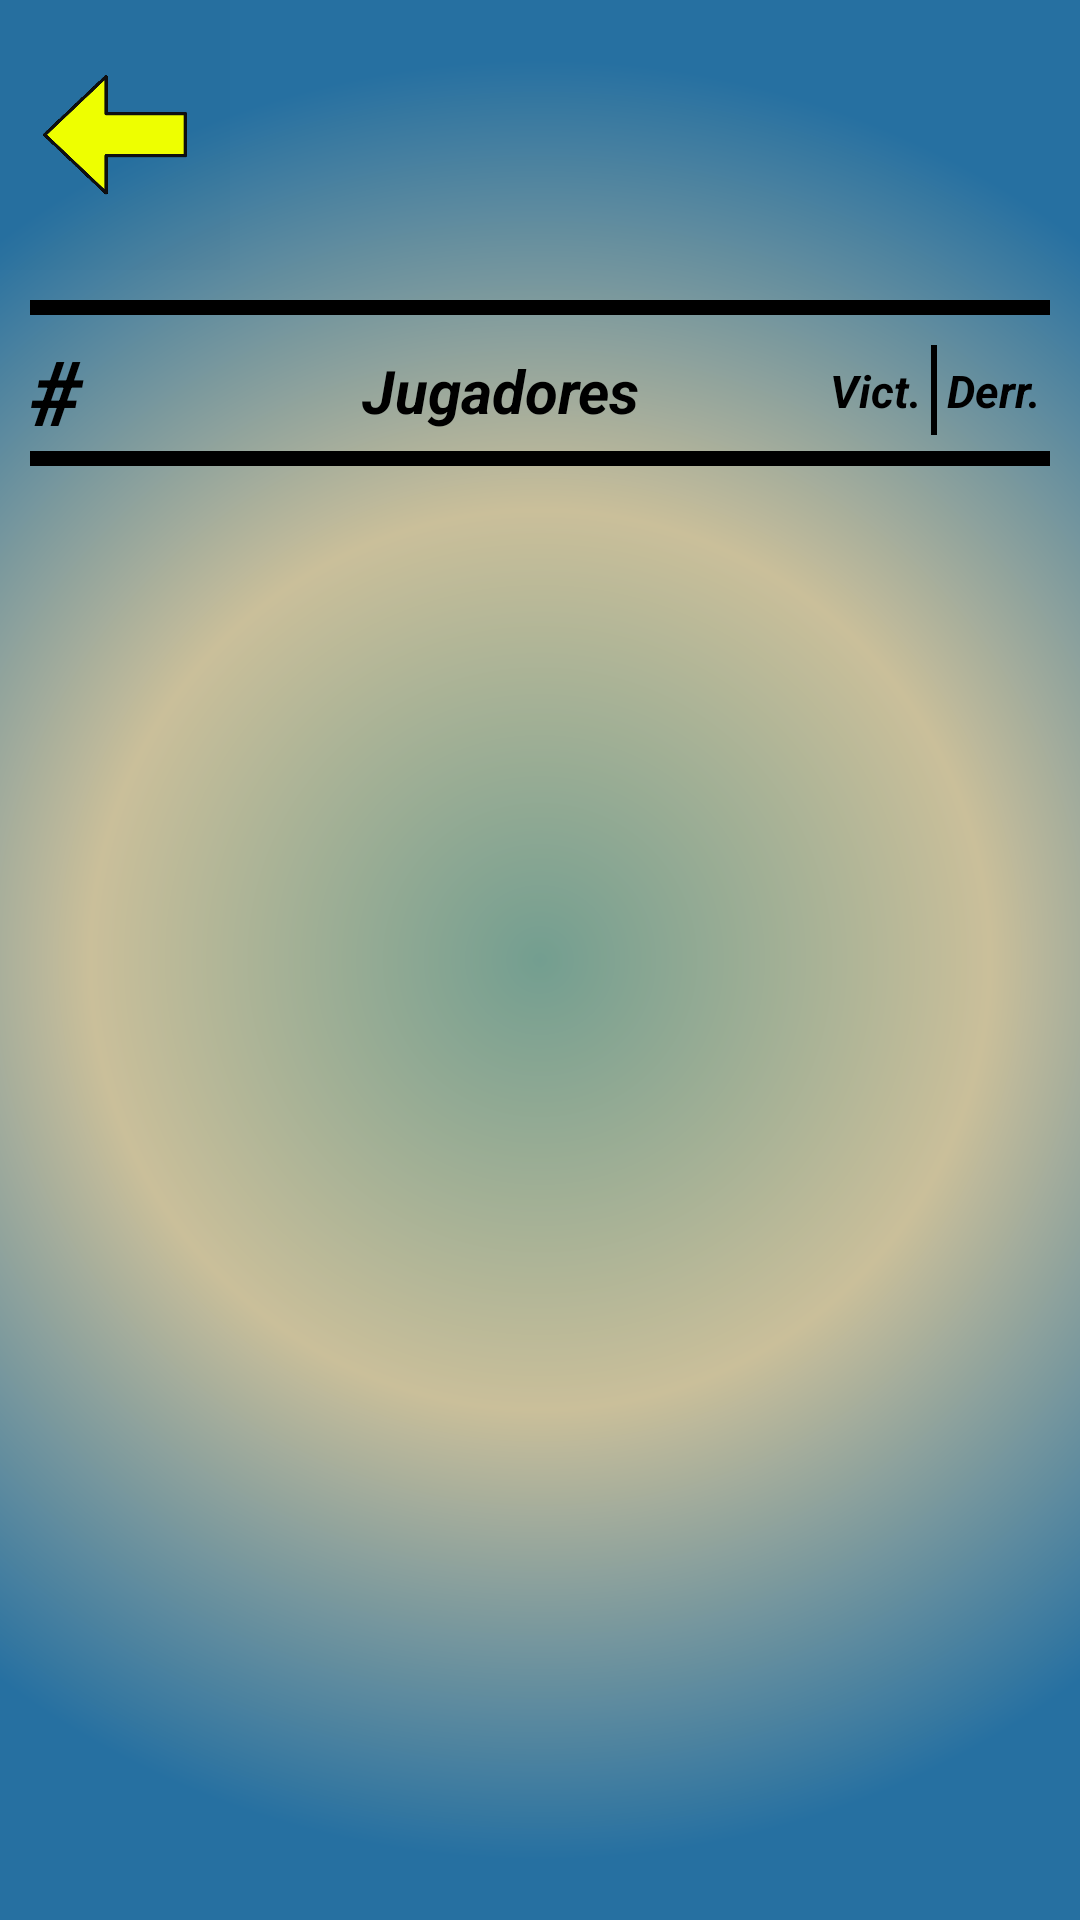

Where to tap for icons on this 1080x1920 app screen, as (x=x, y=y):
back: (x=115, y=135)
